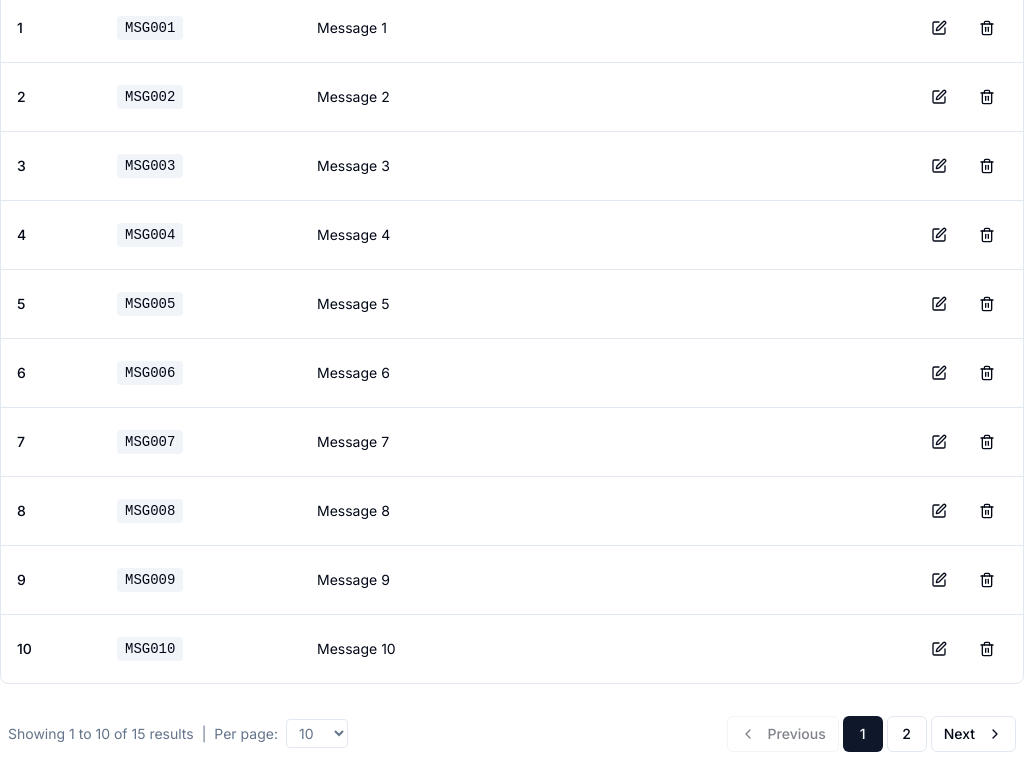
it: MessageTable › ページネーション › 10件以上のデータがある場合、ページネーションが機能する
(page scrolled)
Expected: the text "MSG001" is shown, 117,16 -> 183,40
Expected: the text "MSG010" is shown, 117,637 -> 183,661
Note: 次のページに移動
Step 1. Click the button "Next" → x=973, y=734, box 931,716 -> 1016,752
(page scrolled)
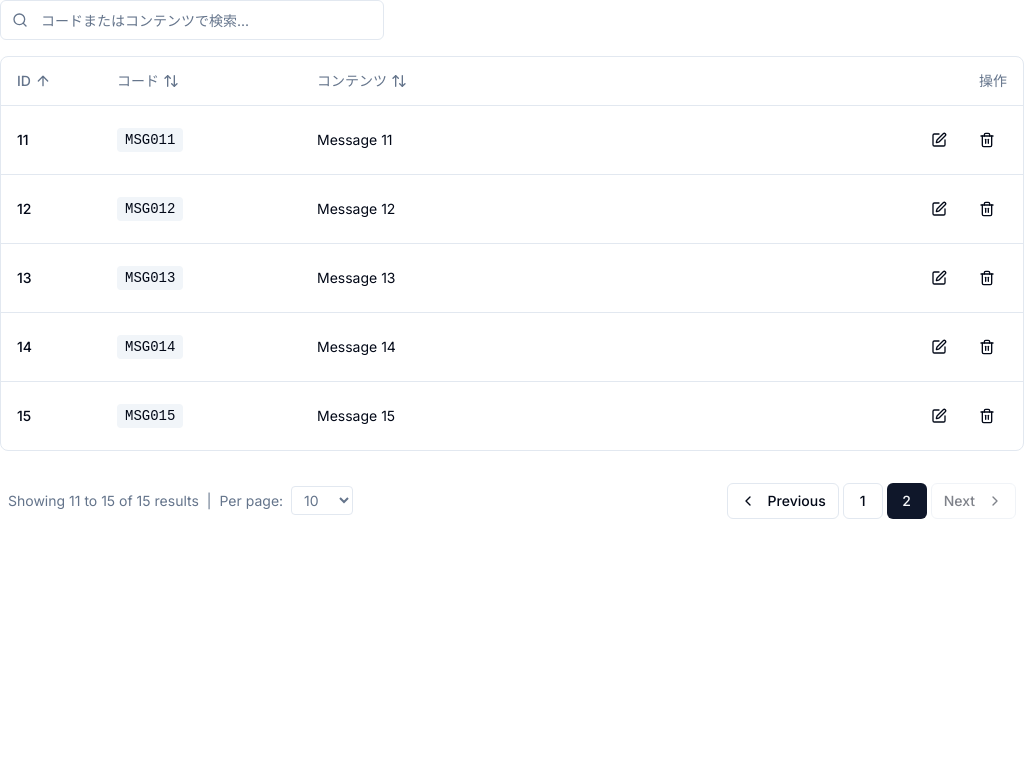
Now the text "MSG001" is gone
Now the text "MSG011" is shown, box 117,128 -> 183,152
Now the text "MSG015" is shown, box 117,404 -> 183,428
